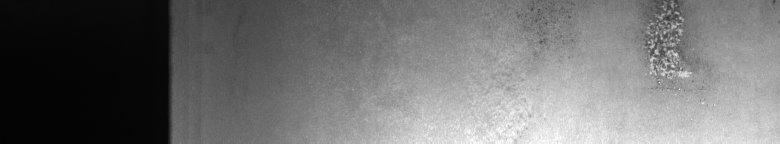hc: (640, 4, 700, 91)
